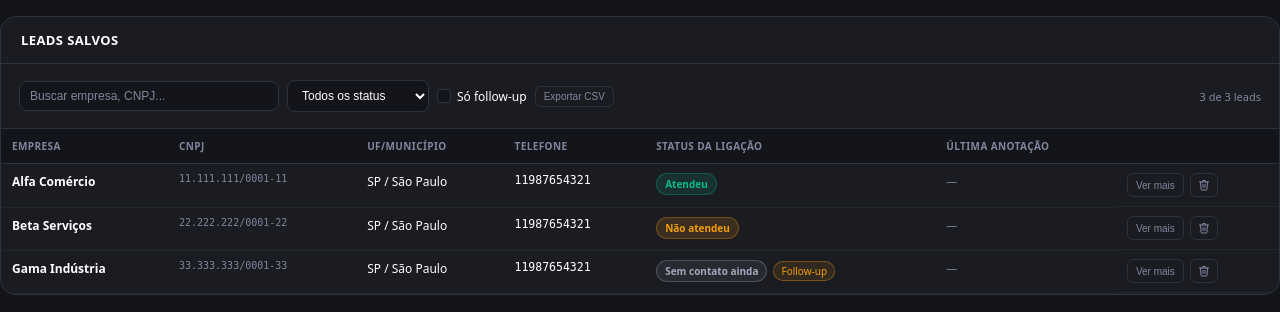
Scenario: SavedLeadsTable - filtros e contador › filtra por texto (razão social)
Type "alfa" into the field with placeholder "Buscar empresa, CNPJ..." at [149, 96], box x1=19 y1=81 x2=279 y2=111
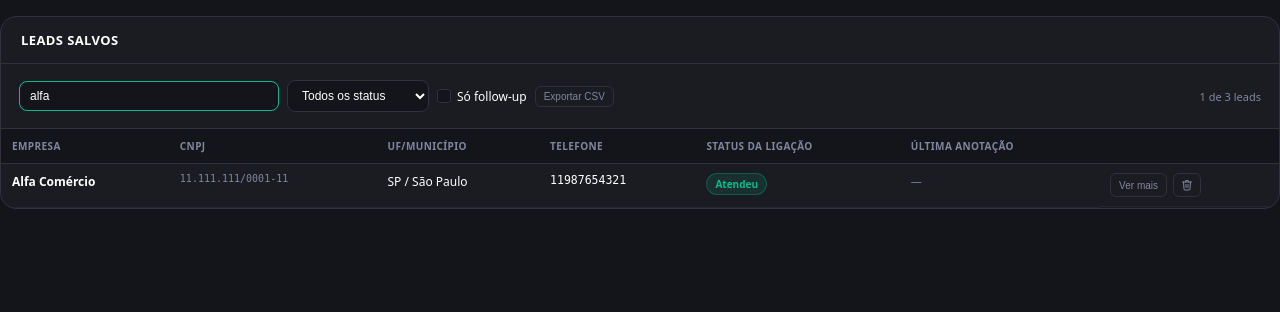
Expected: the text "Alfa Comércio" is shown, x1=12 y1=173 x2=95 y2=190
Expected: the text "Beta Serviços" is gone
Expected: the text "1 de 3 leads" is shown, x1=1200 y1=88 x2=1261 y2=104
